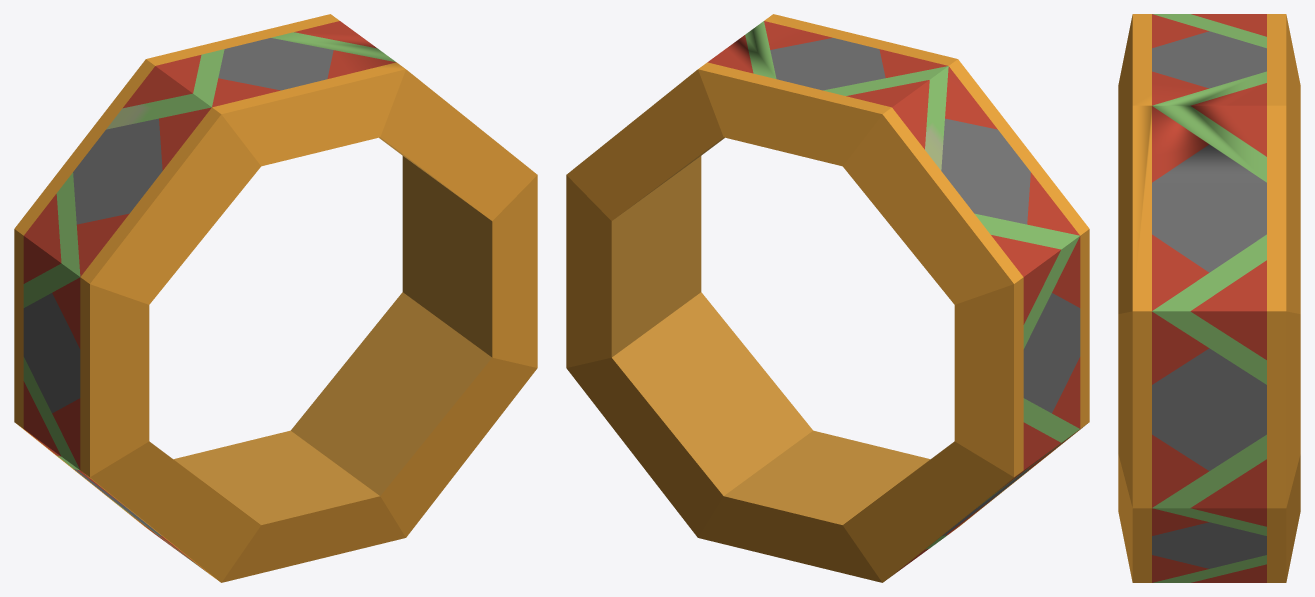
The model's file is Item_Ring_06.fbx.
The picture shows the model from 3 angles, left to right: view 1: azimuth 30°, elevation 25°; view 2: azimuth 150°, elevation 25°; view 3: azimuth 270°, elevation 25°; orthographic projection.
Parts seen in each view (by area): view 1: SM_Item_Ring_06; view 2: SM_Item_Ring_06; view 3: SM_Item_Ring_06.
Part boxes in pixels (box(x1,y1,x2,y2)): SM_Item_Ring_06: box(14, 14, 537, 582); SM_Item_Ring_06: box(566, 14, 1089, 582); SM_Item_Ring_06: box(1118, 14, 1300, 582).
Size of the model in its own units: 5.07 by 5.07 by 1.76.
